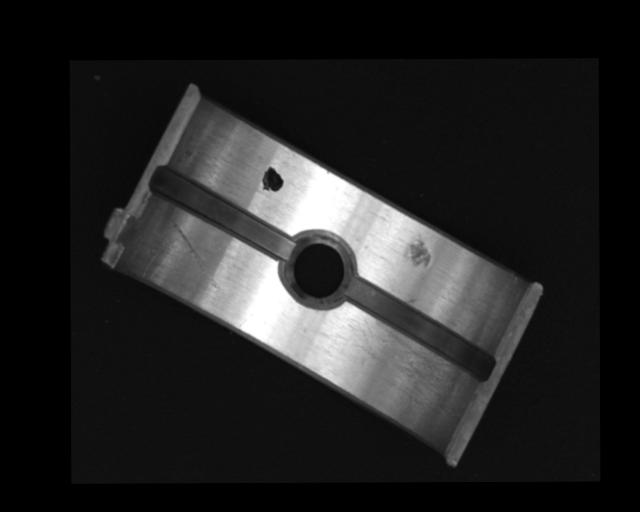blot: (260, 166, 284, 192)
bruise: (406, 232, 431, 269)
gap: (346, 274, 494, 382), (151, 164, 294, 259)
hole: (284, 231, 351, 310)
nick: (172, 219, 221, 294)
scratch: (348, 318, 464, 413)
